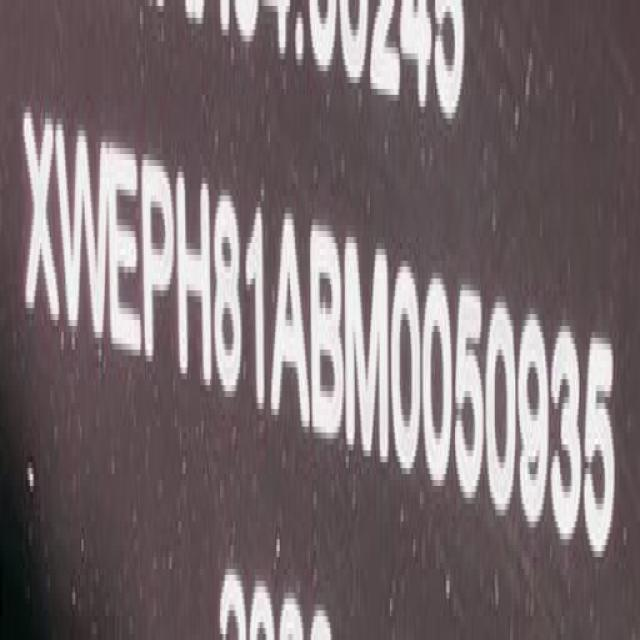0: (486, 291, 519, 523), (393, 250, 425, 480), (423, 265, 453, 499)
1: (248, 197, 270, 422)
3: (548, 316, 582, 550)
5: (586, 327, 622, 563), (455, 274, 487, 512)
8: (212, 187, 244, 406)
9: (518, 304, 550, 535)
A: (272, 200, 312, 438)
B: (309, 215, 346, 452)
E: (109, 134, 143, 370)
H: (178, 162, 215, 392)
M: (344, 234, 391, 471)
P: (139, 152, 176, 383)
W: (55, 110, 110, 360)
X: (20, 99, 60, 340)
